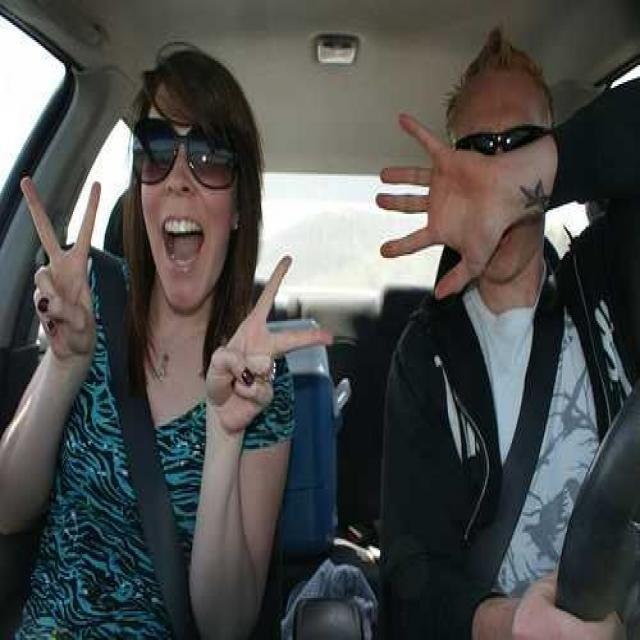seatbelt: (70, 205, 191, 594), (489, 254, 563, 552)
